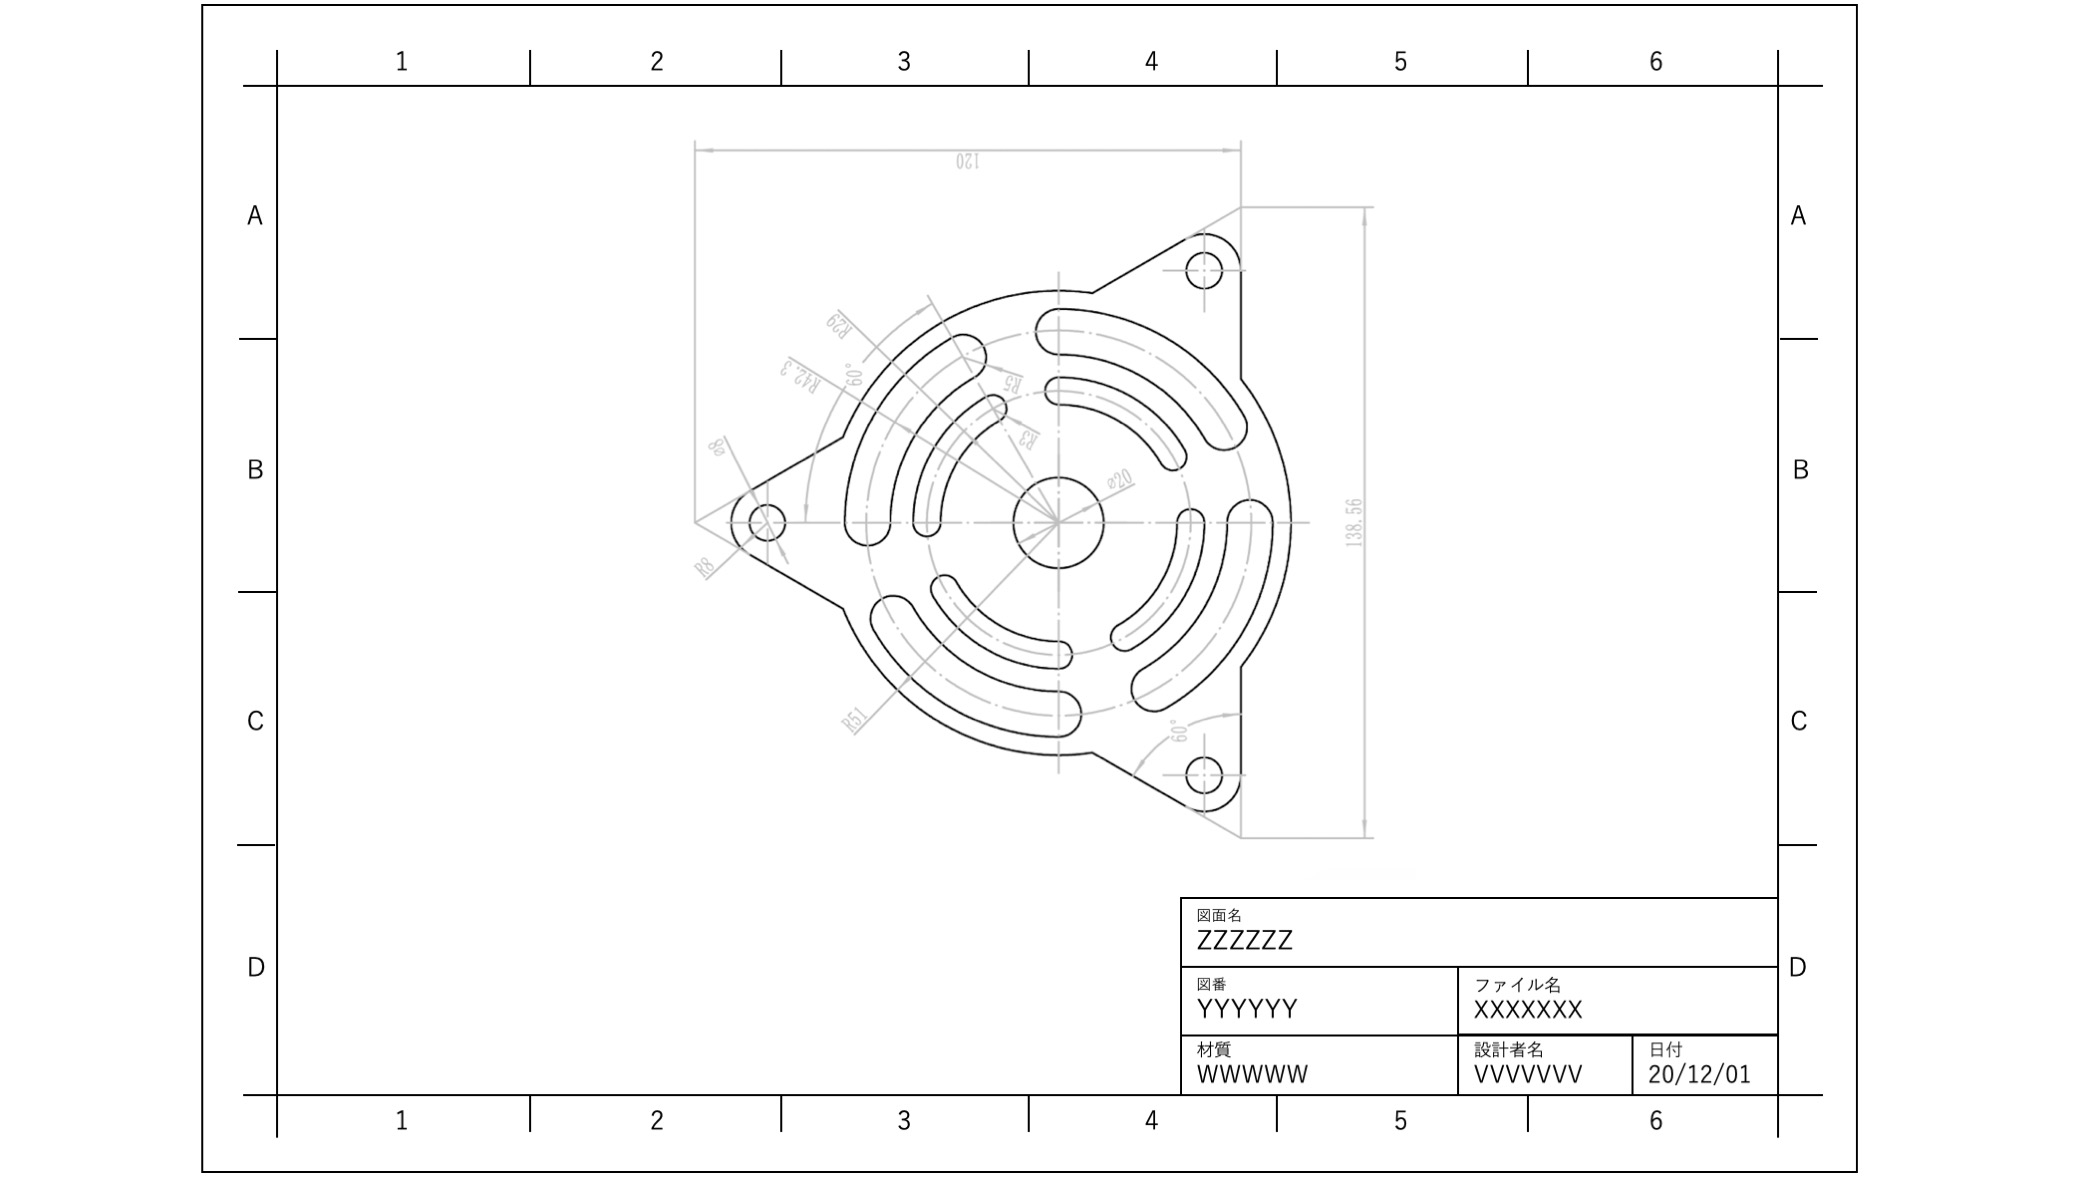circle: (1008, 473, 1105, 572), (1178, 244, 1230, 300), (743, 495, 793, 551), (1174, 750, 1226, 803)
round_rectangle: (852, 580, 1085, 743), (834, 319, 989, 549), (1129, 495, 1281, 717), (1036, 297, 1252, 451), (1103, 502, 1214, 656), (904, 379, 1005, 542), (925, 571, 1079, 676), (1038, 373, 1199, 466)
